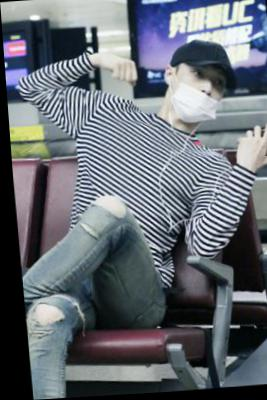WRONG: (170, 63, 227, 128)
